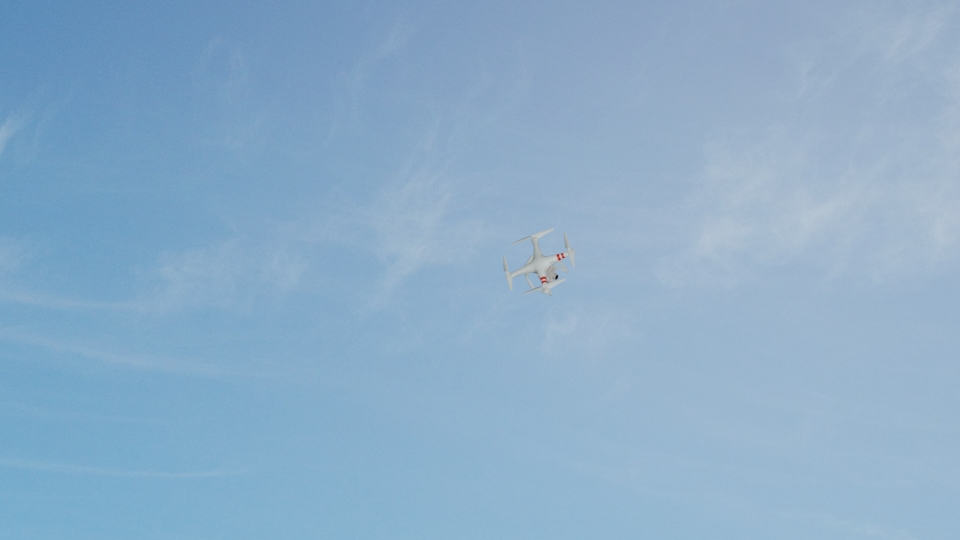drone: (499, 228, 575, 298)
